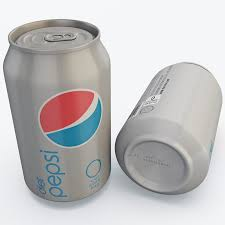can: (2, 16, 114, 207), (119, 59, 223, 193)
